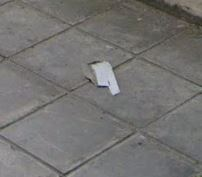trash: (81, 58, 127, 99)
